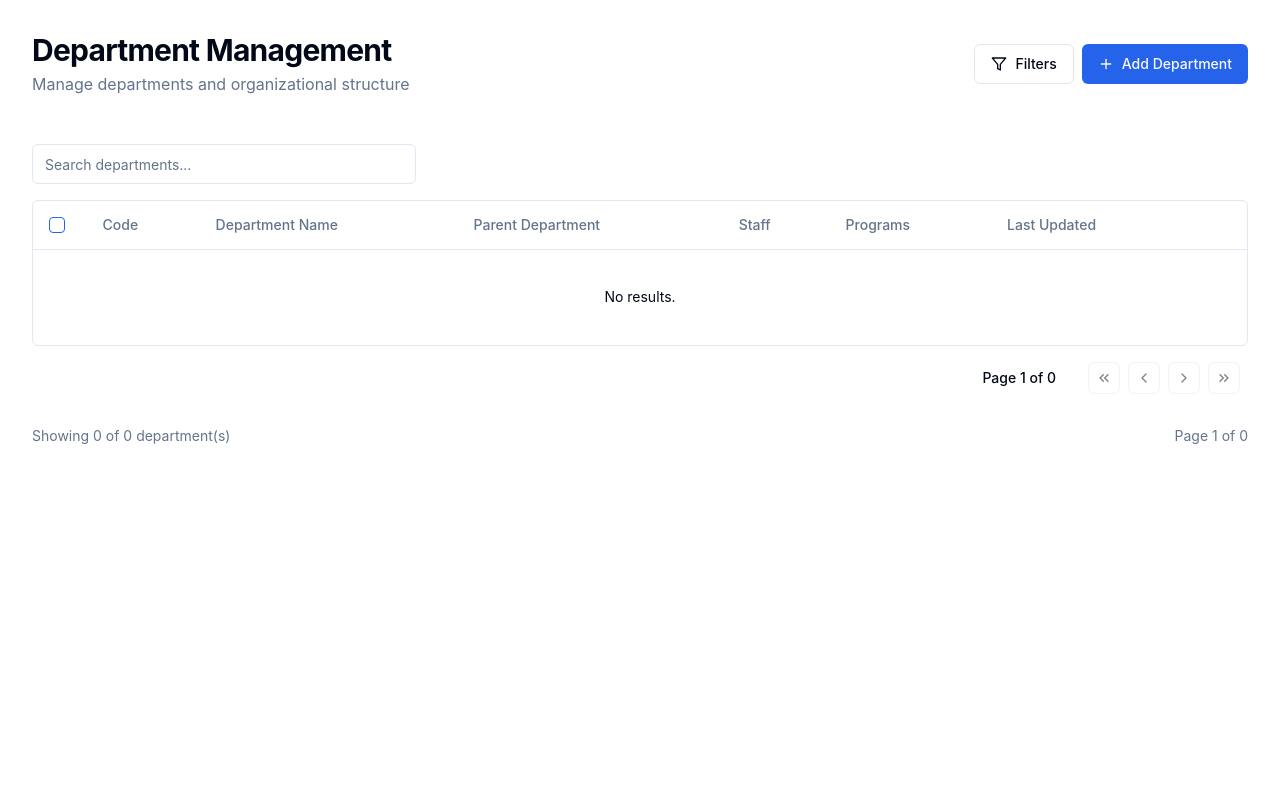
Test: DepartmentManagementPage › CRUD Operations › should open create dialog when Add Department button is clicked
What coordinates should you click on to do the following:
click the button "Add Department"
I would click on:
 (1165, 64)
Its box is 1082,44 -> 1248,84.
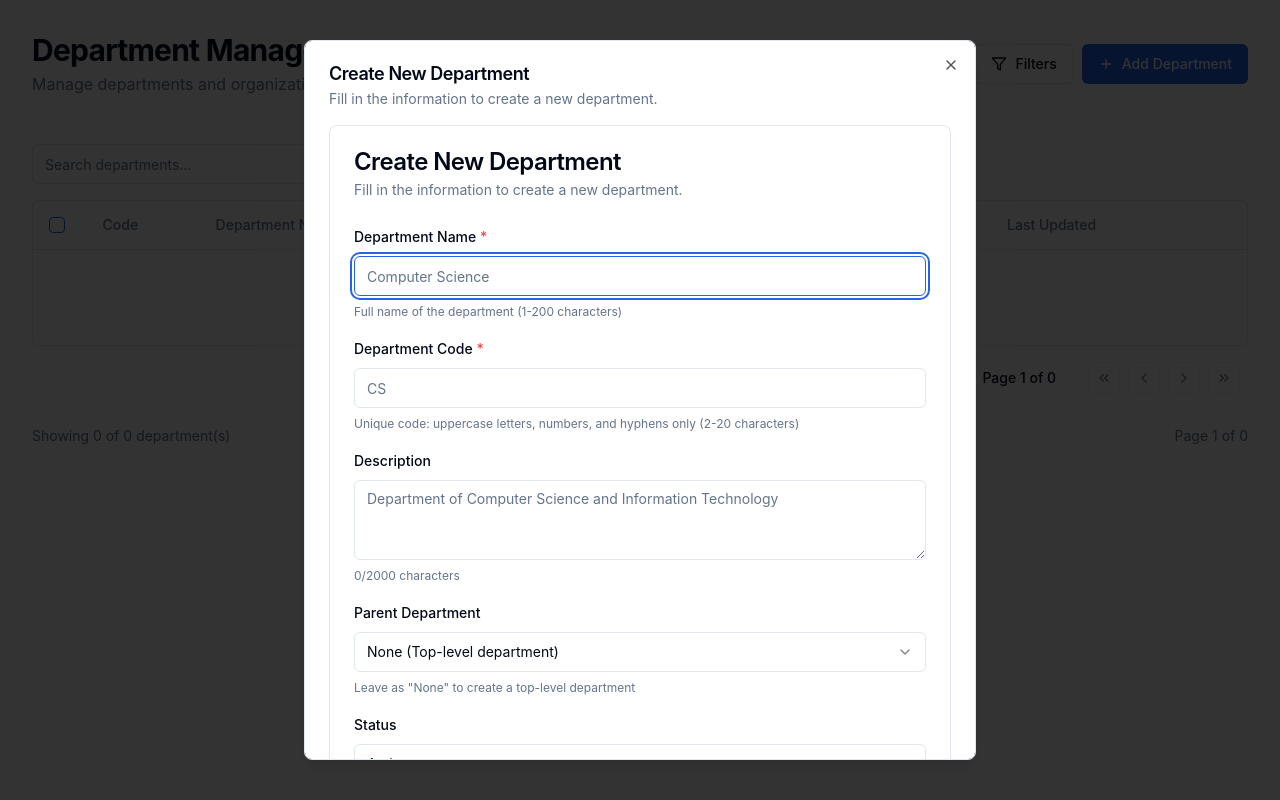
Now the 1st heading "Create New Department" is shown, box 329,63 -> 529,84
